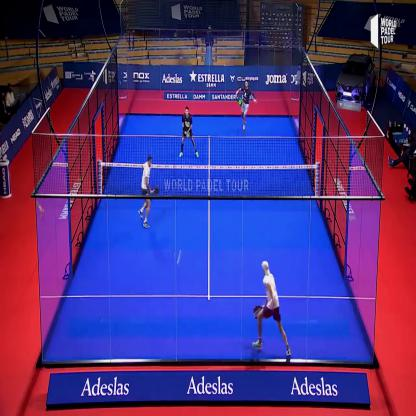ball: (174, 253, 184, 273)
